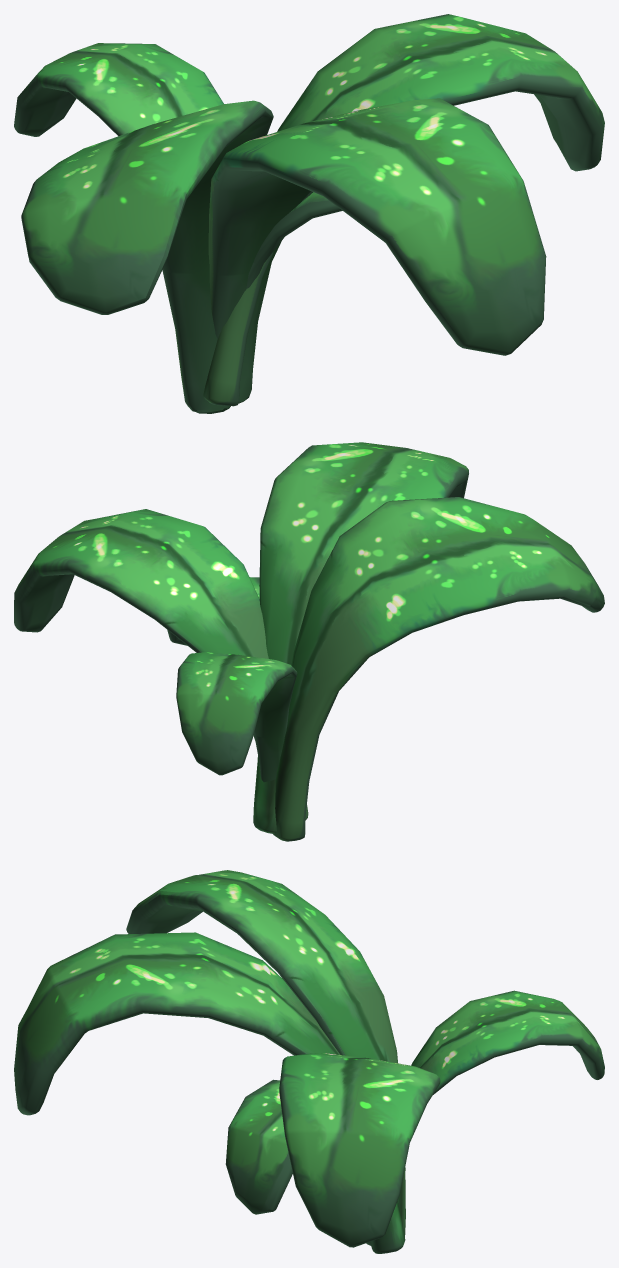
The model's file is basic plant.fbx.
3 views of the same model, one above another, from view 1: azimuth 30°, elevation 25°; view 2: azimuth 150°, elevation 25°; view 3: azimuth 270°, elevation 25° (orthographic). The views are drawn at different scales.
Parts seen in each view (by area): view 1: Cube, Cube.002, Cube.001, Cube.004, Cube.003; view 2: Cube.002, Cube.001, Cube, Cube.004; view 3: Cube, Cube.001, Cube.002, Cube.004, Cube.003.
Part boxes in pixels (box(x1,y1,x2,y2)): Cube: box(208, 98, 546, 403); Cube.002: box(21, 100, 273, 413); Cube.001: box(203, 14, 604, 406); Cube.004: box(14, 43, 223, 136); Cube.003: box(246, 192, 342, 288); Cube.002: box(273, 497, 604, 841); Cube.001: box(14, 509, 308, 820); Cube: box(253, 442, 468, 833); Cube.004: box(176, 652, 297, 782); Cube: box(14, 932, 405, 1253); Cube.001: box(279, 1053, 440, 1247); Cube.002: box(126, 870, 405, 1245); Cube.004: box(411, 990, 604, 1094); Cube.003: box(225, 1079, 292, 1214).
Bounding box in the file's own units: 934 × 527 × 913.
